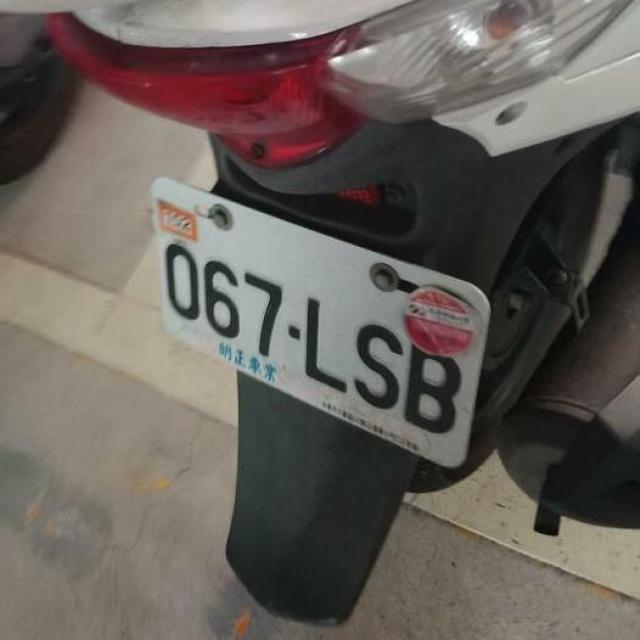W: (137, 164, 514, 464)
